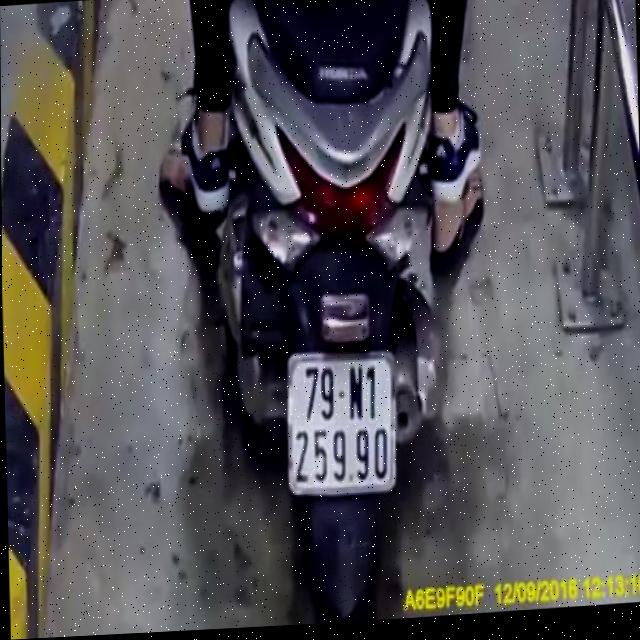motorcycle: (198, 0, 459, 630)
plate: (278, 338, 402, 502)
